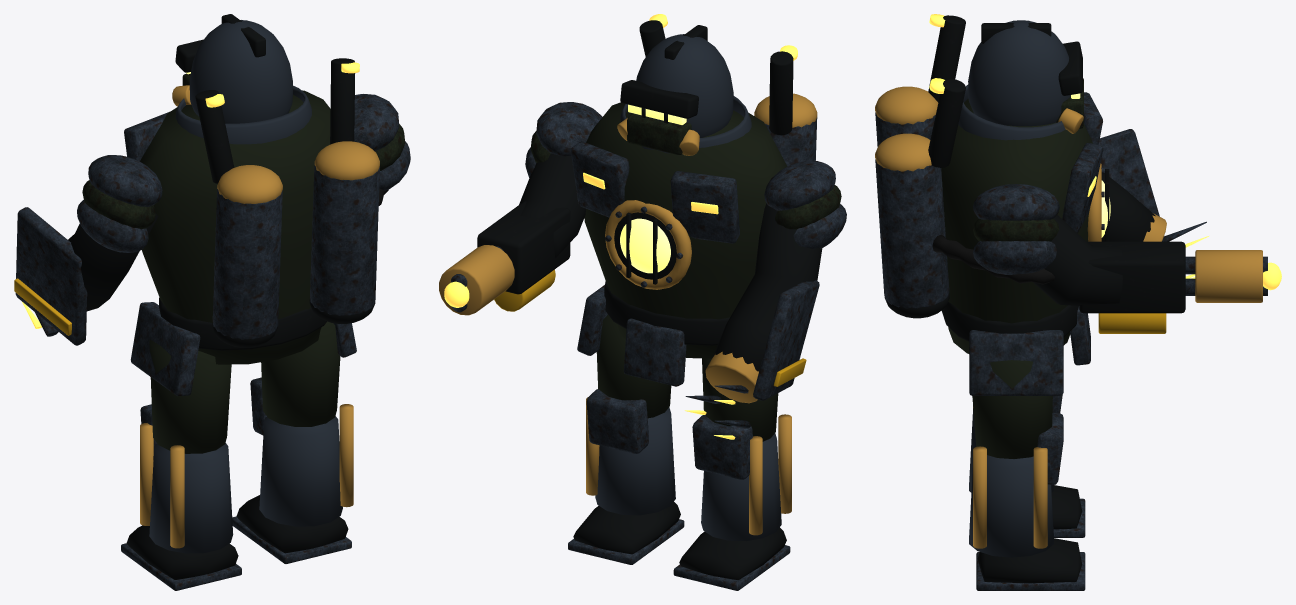
Rendered from boss_juggernaut.glb.
3 views of the same model, side by side, from view 1: azimuth 30°, elevation 25°; view 2: azimuth 150°, elevation 25°; view 3: azimuth 270°, elevation 25° (orthographic). The views are drawn at different scales.
Visible parts, largest first — view 1: Torso_Geo, LegR_Geo, LegL_Geo, ArmL_Geo, Head_Geo, ArmR_Geo; view 2: Torso_Geo, ArmL_Geo, LegR_Geo, LegL_Geo, ArmR_Geo, Head_Geo; view 3: Torso_Geo, ArmR_Geo, LegR_Geo, Head_Geo, ArmL_Geo, LegL_Geo.
Part boxes in pixels (box(x1,y1,x2,y2)): Torso_Geo: box(124, 58, 379, 395); LegR_Geo: box(232, 321, 353, 563); LegL_Geo: box(121, 340, 241, 590); ArmL_Geo: box(14, 155, 162, 345); Head_Geo: box(172, 14, 292, 123); ArmR_Geo: box(354, 94, 410, 205); Torso_Geo: box(570, 14, 817, 386); ArmL_Geo: box(685, 161, 846, 439); LegR_Geo: box(568, 315, 684, 564); LegL_Geo: box(673, 358, 791, 590); ArmR_Geo: box(439, 102, 602, 315); Head_Geo: box(617, 25, 733, 155); Torso_Geo: box(875, 14, 1110, 395); ArmR_Geo: box(932, 184, 1281, 333); LegR_Geo: box(969, 347, 1085, 590); Head_Geo: box(968, 20, 1083, 133); ArmL_Geo: box(1098, 129, 1208, 278); LegL_Geo: box(969, 395, 1085, 537).
Bounding box in the file's own units: 1.55 × 2.41 × 1.68.
Materials: 8 (3 with a texture image).
